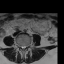CCS_normal: (22, 44, 24, 52)
LFS_normal: (26, 43, 28, 50)
LLS_normal: (24, 43, 26, 51)
RFS_stenosis: (19, 43, 20, 49)
RLS_normal: (20, 43, 22, 51)
